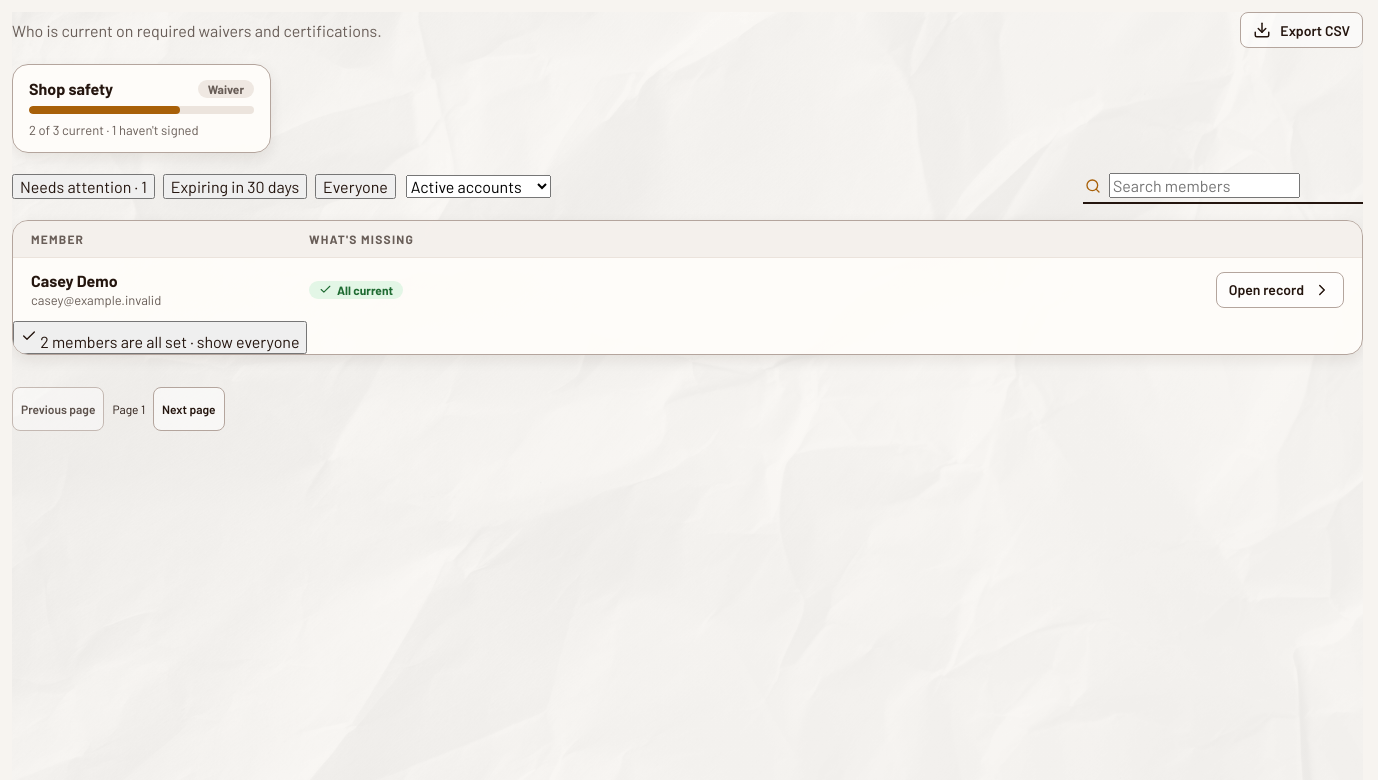
search asks the server (after a pause), from the first page, so members past this page are found
The image size is (1378, 780).
Click the button "Next page".
click(189, 409)  # box [153,387,225,431]
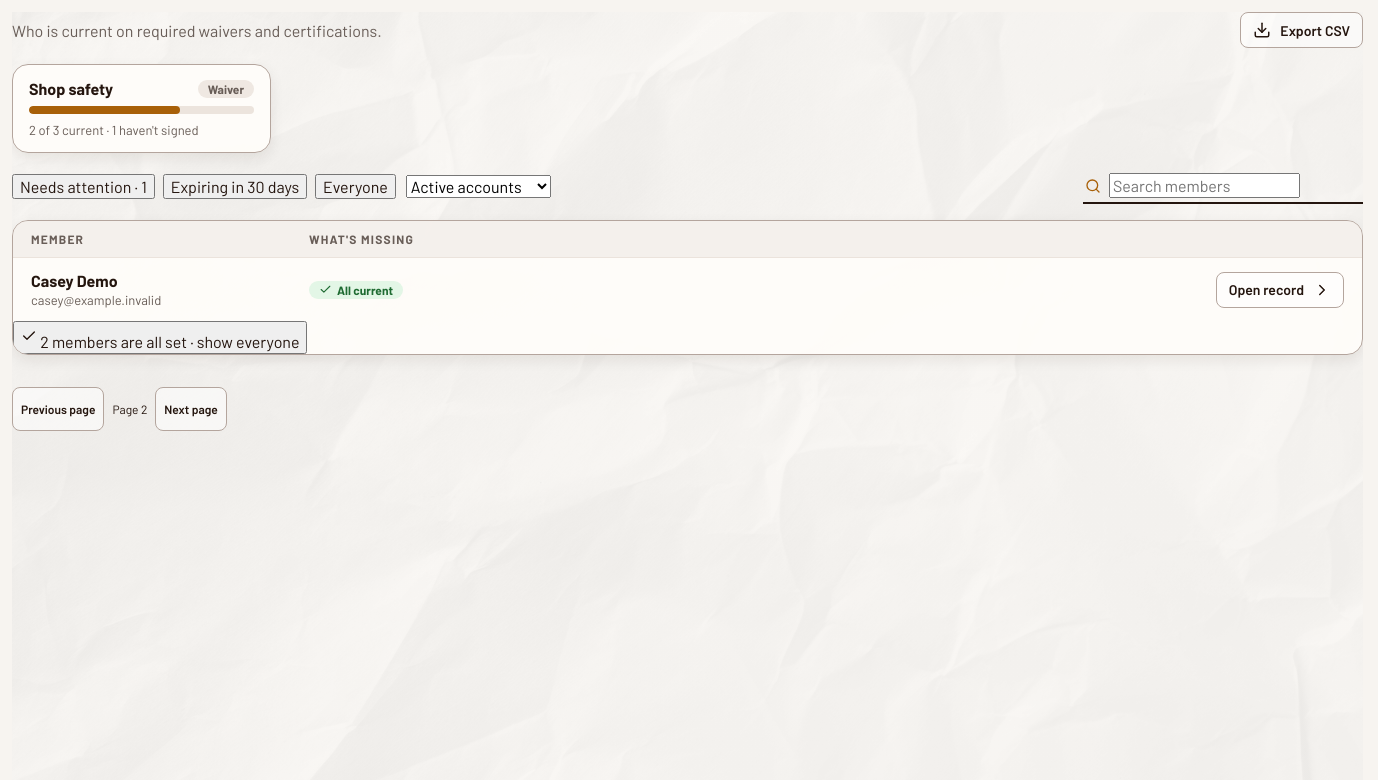
Type " Zelda Z " into the search field labelled "Search members".
click(1204, 186); type(" Zelda Z ")  # box [1109,173,1300,198]
Wait 200 ms
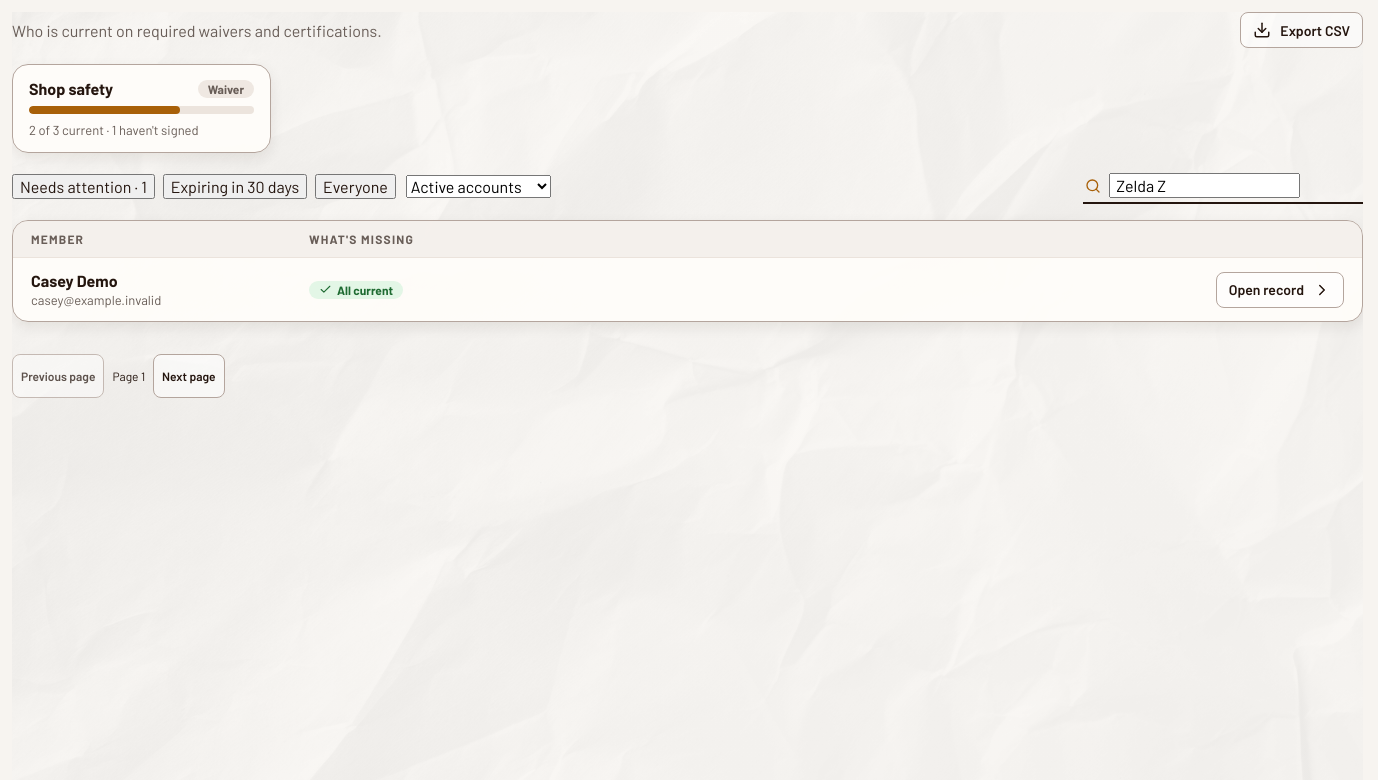
Expected: the button with aria-label "Open record for Casey Demo" is shown, [1216,272,1344,308]
Now the button "show everyone" is gone
